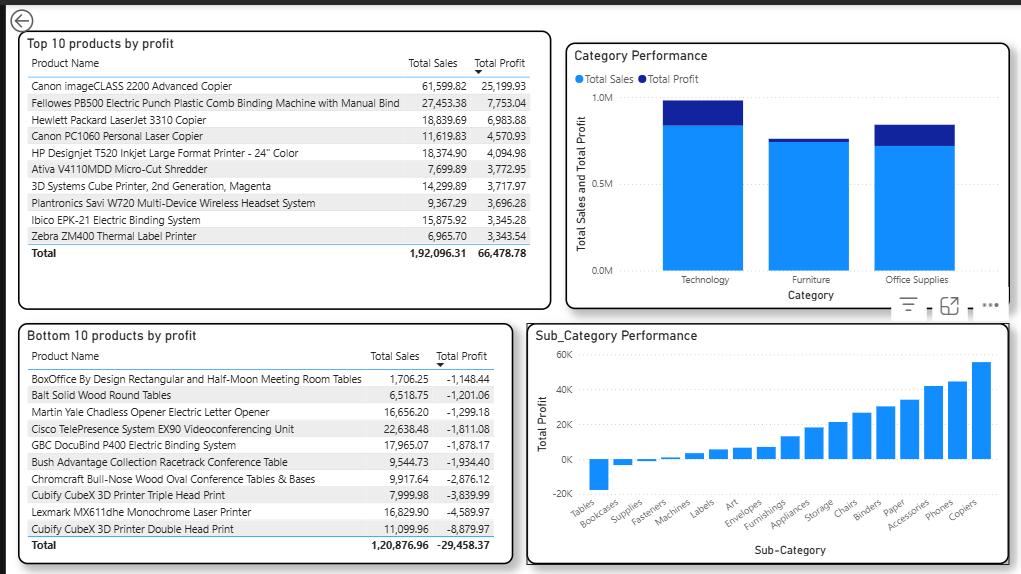

Layout of this report page (visuals, bound fields, positions):
{"tool":"powerbi","page":{"name":"Product Analysis","canvas":[1280,720],"ordinal":2},"visuals":[{"type":"tableEx","title":"Top 10 products by profit","fields":{"Values":["superstore_cleaned.Product Name","superstore_cleaned.Total Sales","superstore_cleaned.Total Profit"]},"box":[16,32,672,352],"z":0},{"type":"actionButton","box":[0,0,100,40],"z":1000},{"type":"tableEx","title":"Bottom 10 products by profit","fields":{"Values":["superstore_cleaned.Product Name","superstore_cleaned.Total Sales","superstore_cleaned.Total Profit"]},"box":[16,400,624,304],"z":2000},{"type":"columnChart","title":"Category Performance","fields":{"Category":["superstore_cleaned.Category"],"Y":["superstore_cleaned.Total Sales","superstore_cleaned.Total Profit"]},"box":[704,48,560,336],"z":3000},{"type":"columnChart","title":"Sub_Category Performance","fields":{"Category":["superstore_cleaned.Sub-Category"],"Y":["superstore_cleaned.Total Profit"]},"box":[656,400,608,304],"z":4000}]}

Visuals, with their boxes in screenshot pixels (x1, y1, x2, y2), scaled from the page's 1280x720 canvas onto the 1021x574 screenshot:
"Top 10 products by profit" tableEx: (13,26,549,306)
actionButton: (0,0,80,32)
"Bottom 10 products by profit" tableEx: (13,319,510,561)
"Category Performance" columnChart: (562,38,1008,306)
"Sub_Category Performance" columnChart: (523,319,1008,561)
